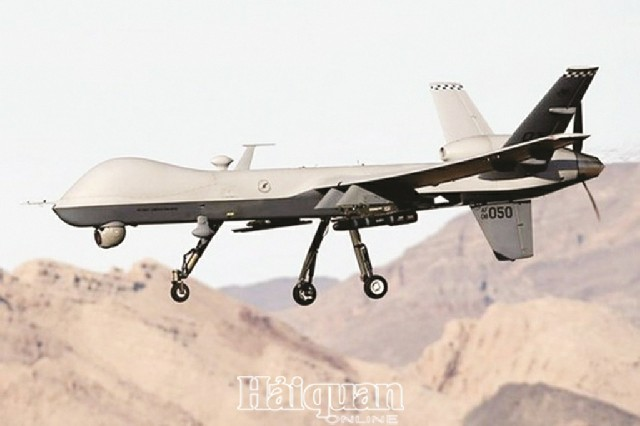maybay_khongnguoilai: (22, 81, 606, 268)
